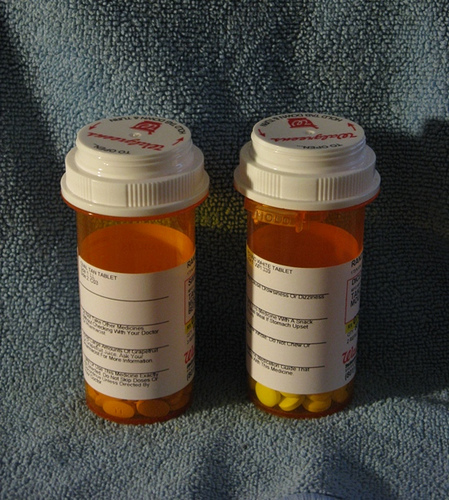pill bottle: (61, 115, 209, 424), (234, 111, 382, 417)
